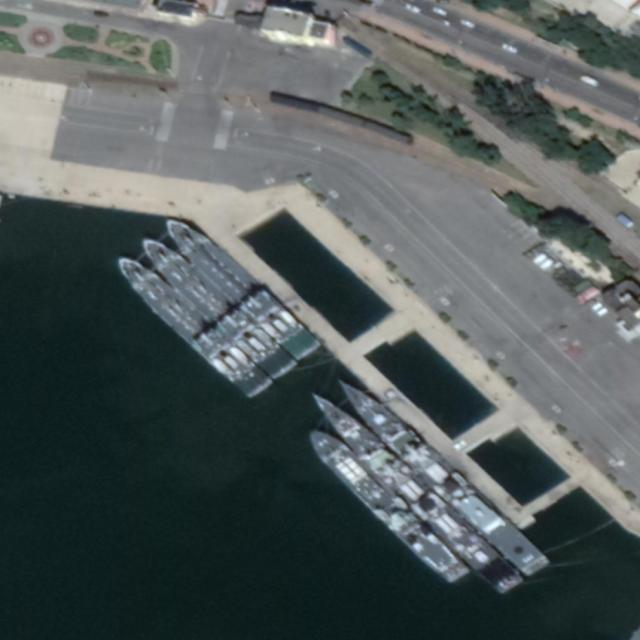Frigate: (332, 369, 554, 582), (303, 384, 525, 597)
Landing: (157, 209, 322, 365), (107, 248, 273, 403), (135, 228, 299, 384)
Other Warship: (296, 419, 473, 590)
